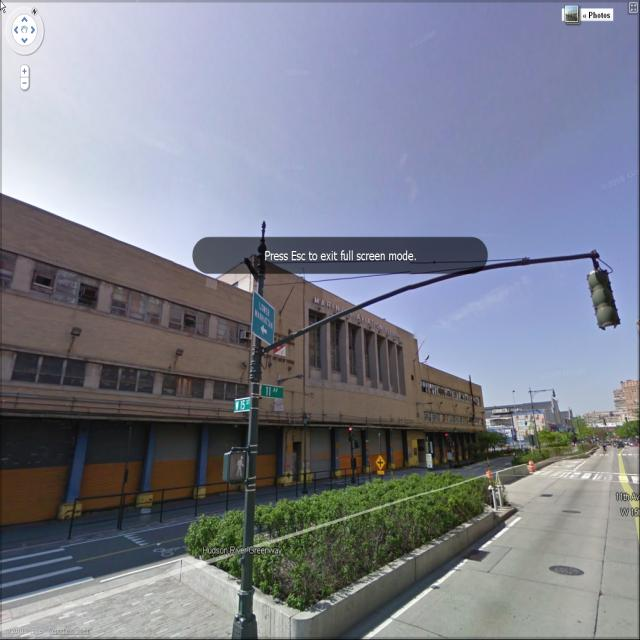b_1: (1, 187, 491, 499)
